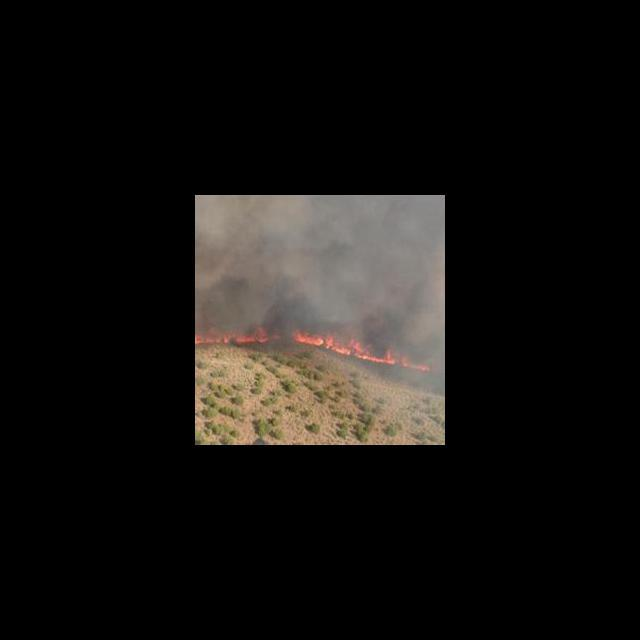Fire: (296, 326, 426, 372), (196, 325, 270, 347)
Smoke: (196, 196, 444, 319)
